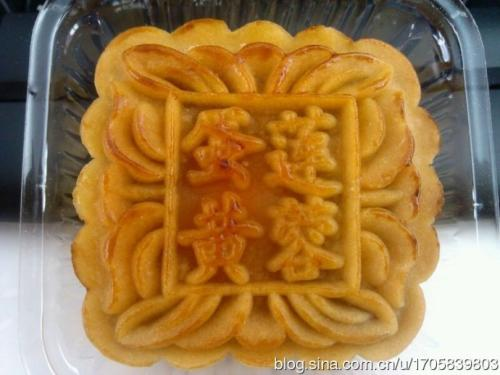MoonCake: (71, 16, 443, 366)
